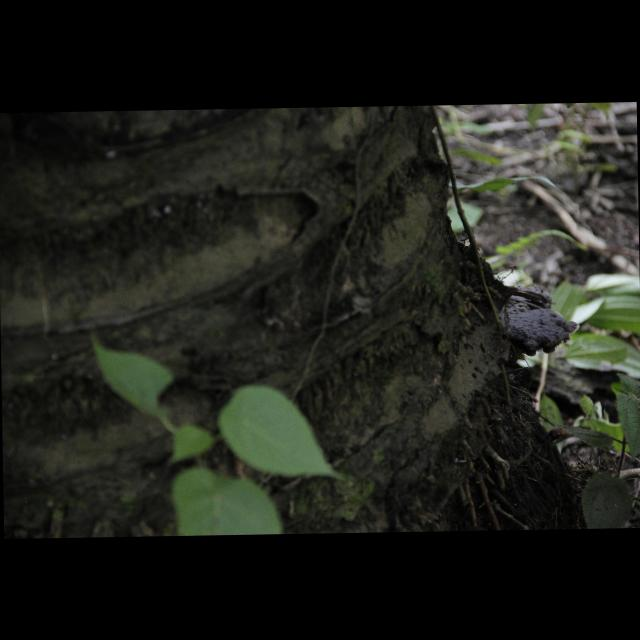ganoderma: (502, 310, 582, 359)
